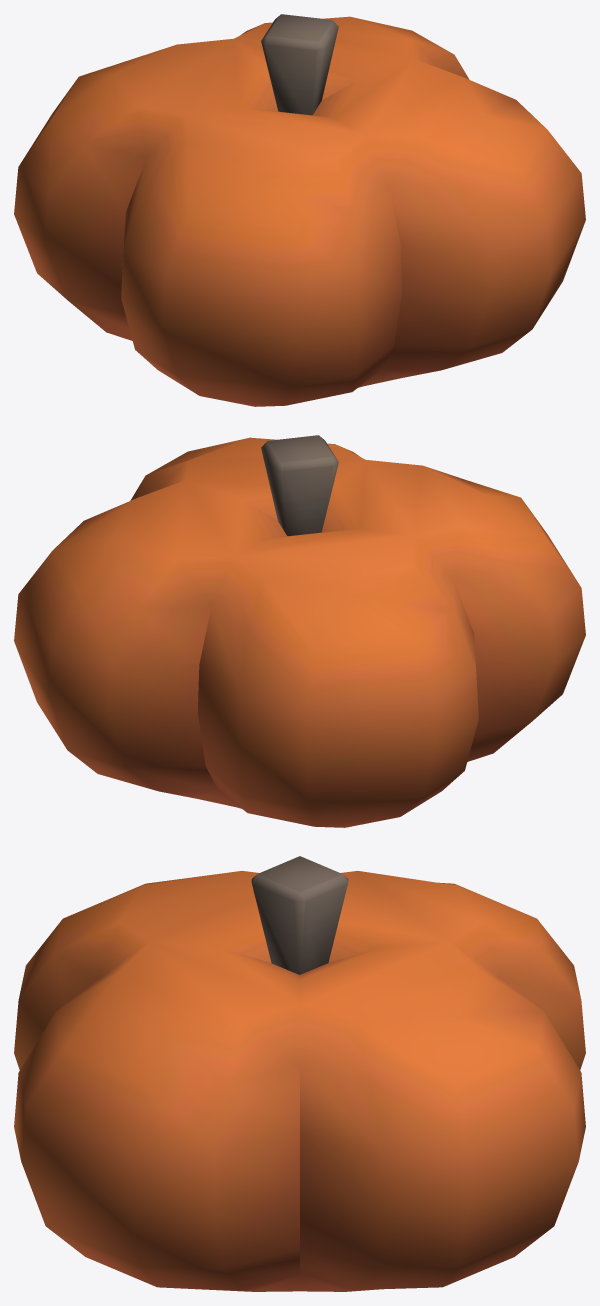
File: kay-abobora.gltf
The picture shows the model from 3 angles, top to bottom: view 1: azimuth 30°, elevation 25°; view 2: azimuth 150°, elevation 25°; view 3: azimuth 270°, elevation 25°; orthographic projection. The views are drawn at different scales.
Visible parts, largest first — view 1: pumpkin_orange; view 2: pumpkin_orange; view 3: pumpkin_orange.
Boxes of the visible parts, <box> form: pumpkin_orange: <box>14,14,585,406</box>; pumpkin_orange: <box>14,435,585,827</box>; pumpkin_orange: <box>14,856,585,1291</box>.
Size of the model in its own units: 0.5009 by 0.35 by 0.5009.
1 material, 1 textured.
